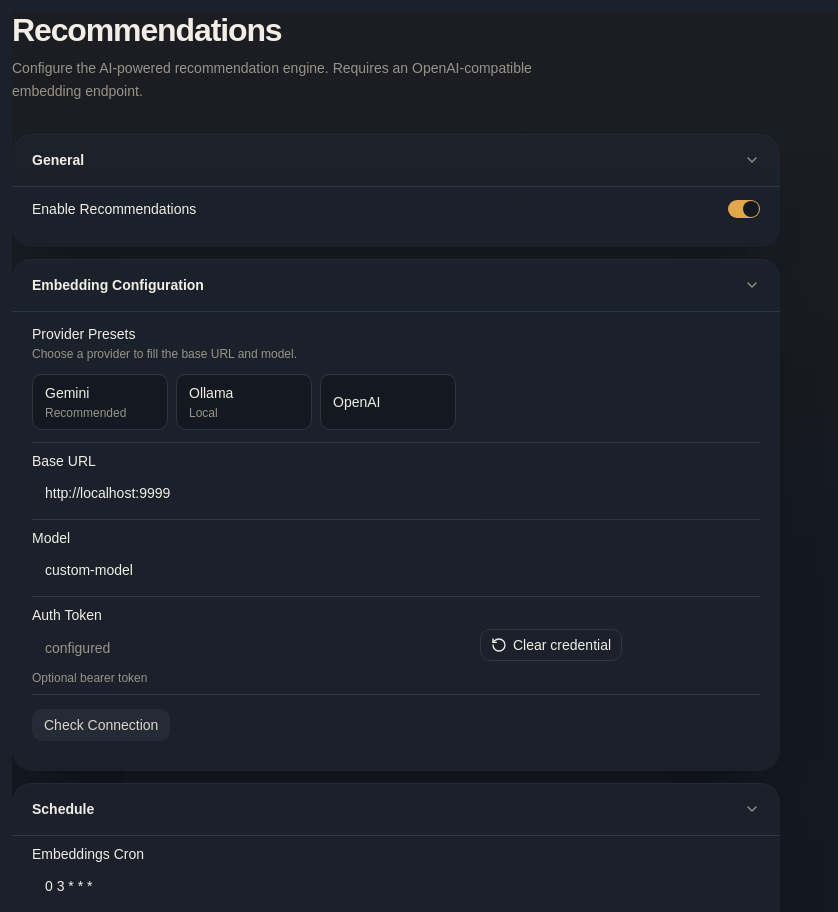
Scenario: AdminRecommendations › applies a provider preset to the embedding settings
The width and height of the screenshot is (838, 912).
Click the button "Gemini Recommended".
click(100, 402)  # box [32, 374, 168, 430]
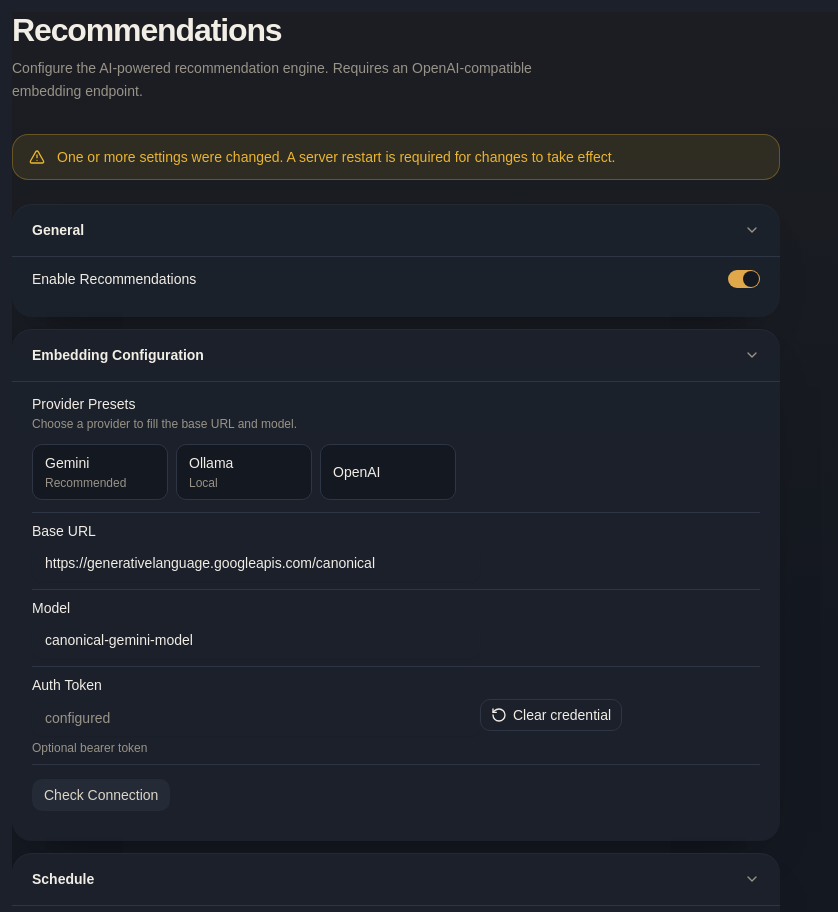
Check: the field with id "recommendations.embedding_base_url" holds "https://generativelanguage.googleapis.com/canonical", box [32, 545, 480, 581]
Check: the field with id "recommendations.embedding_model" holds "canonical-gemini-model", box [32, 622, 480, 658]
